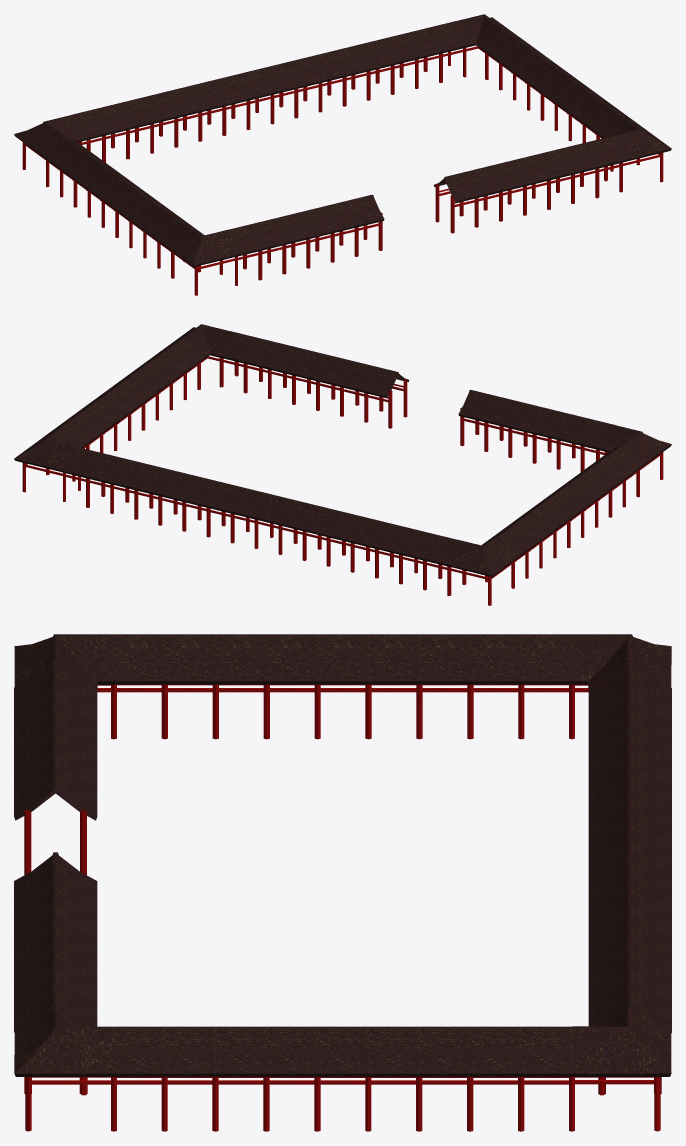
File: RegaMayor.obj
3 renders of one model, top to bottom at view 1: azimuth 30°, elevation 25°; view 2: azimuth 150°, elevation 25°; view 3: azimuth 270°, elevation 25°, orthographic. The views are drawn at different scales.
Parts seen in each view (by area): view 1: RegasMayores; view 2: RegasMayores; view 3: RegasMayores.
Boxes of the visible parts, box(x1,y1,x2,y2) form: RegasMayores: box(14, 14, 671, 295); RegasMayores: box(14, 324, 671, 605); RegasMayores: box(14, 634, 671, 1131).
Bounding box in the file's own units: 274 × 27.15 × 178.
Materials: 1 (1 with a texture image).
